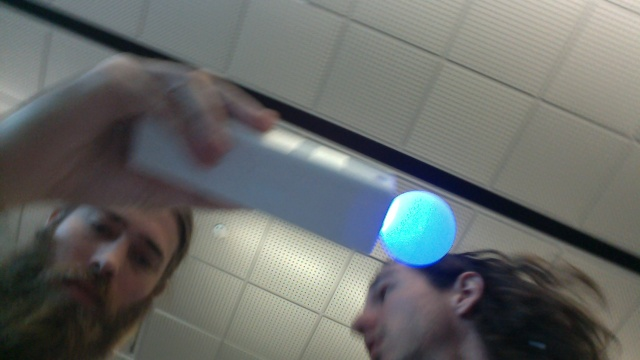wand: (382, 192, 456, 266)
